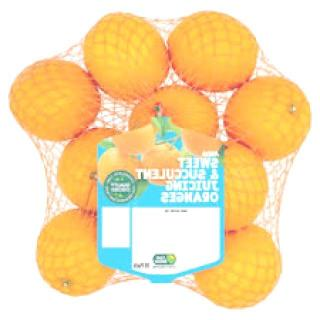orange: (219, 61, 320, 170), (6, 47, 94, 160), (76, 19, 166, 116), (29, 210, 118, 298)
